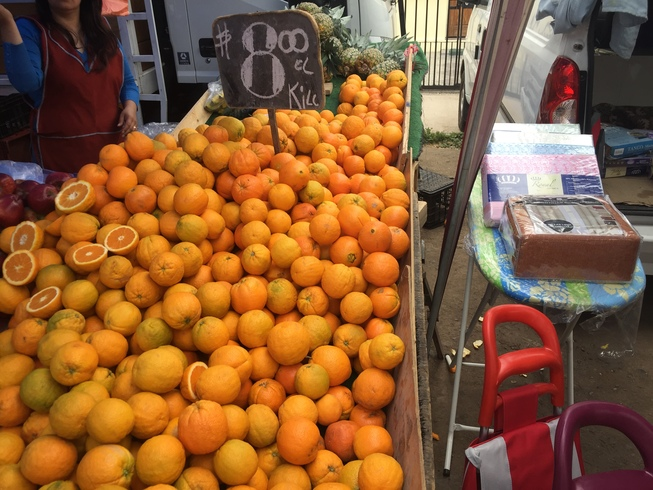precio: (202, 9, 348, 132)
